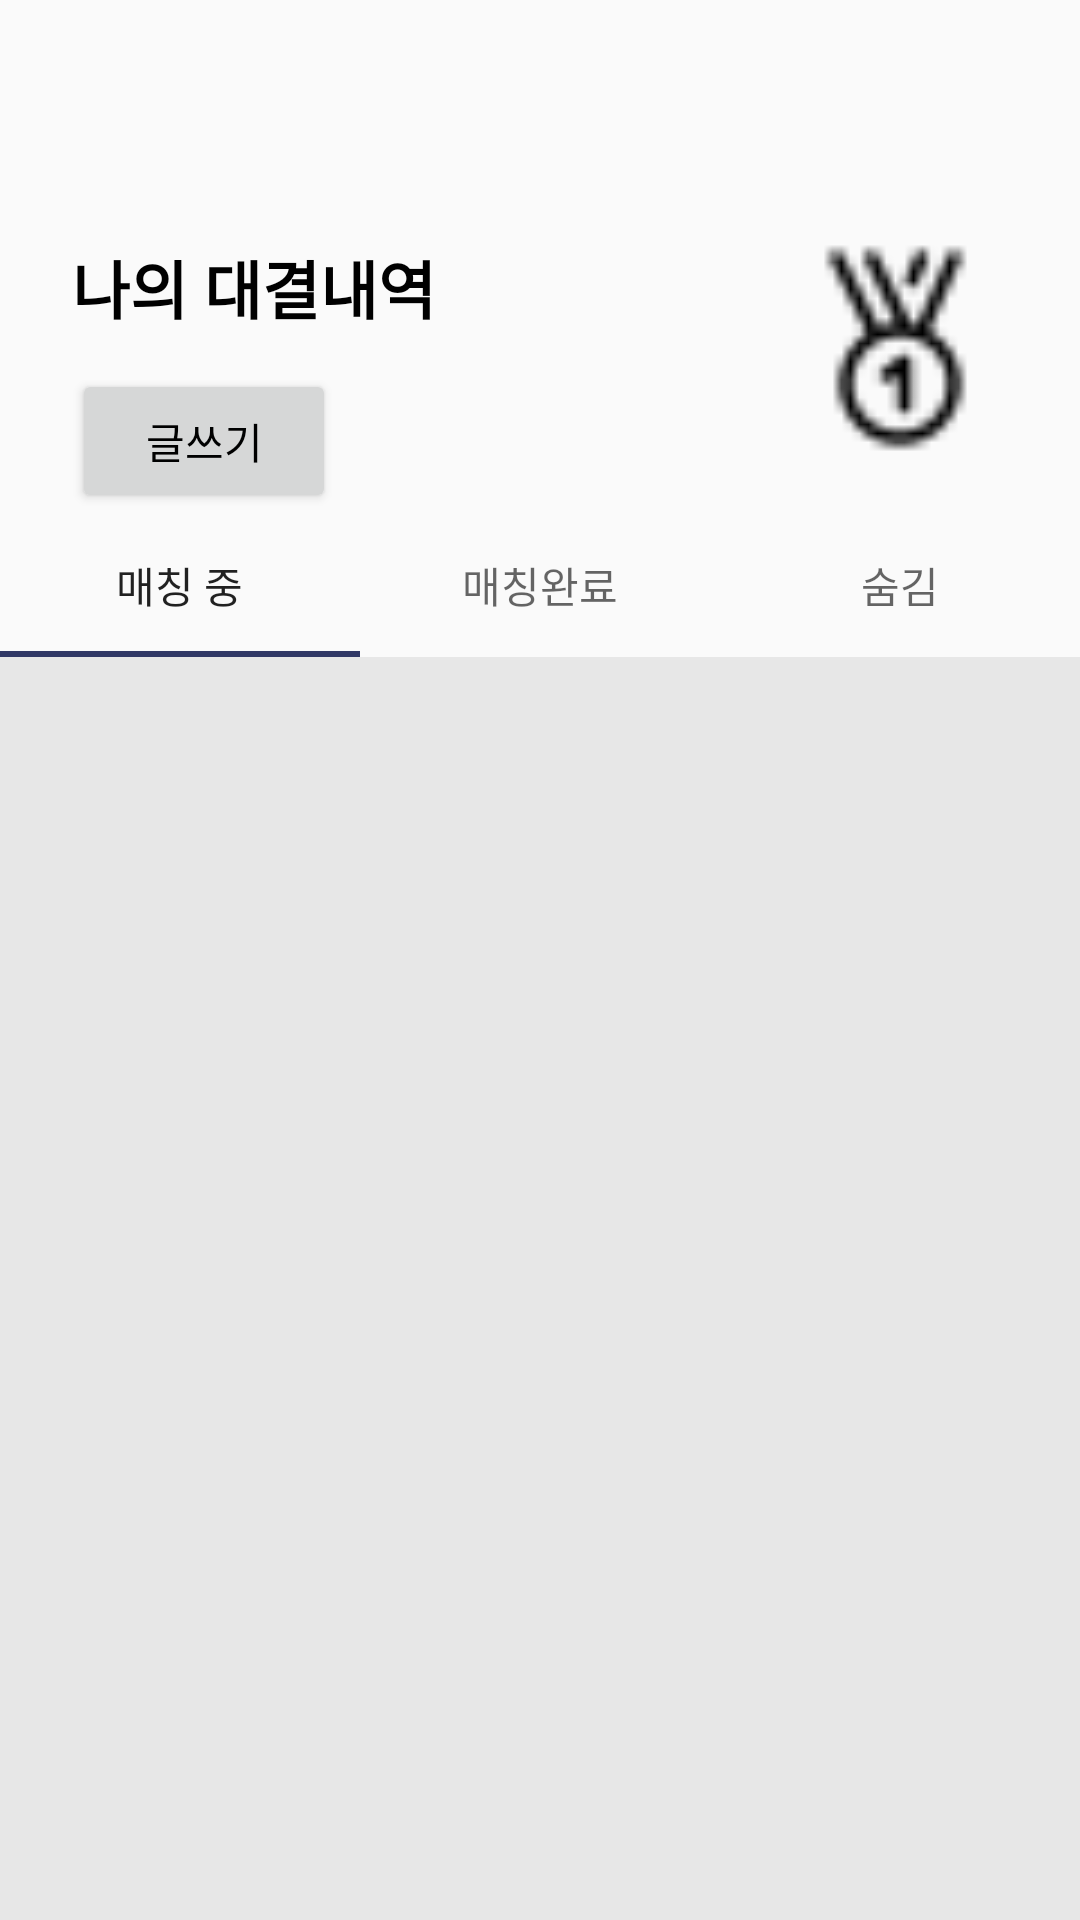

Screen size 1080 x 1920. Icon name, then its center in pixels as [x,y]:
bedge: [895,348]
